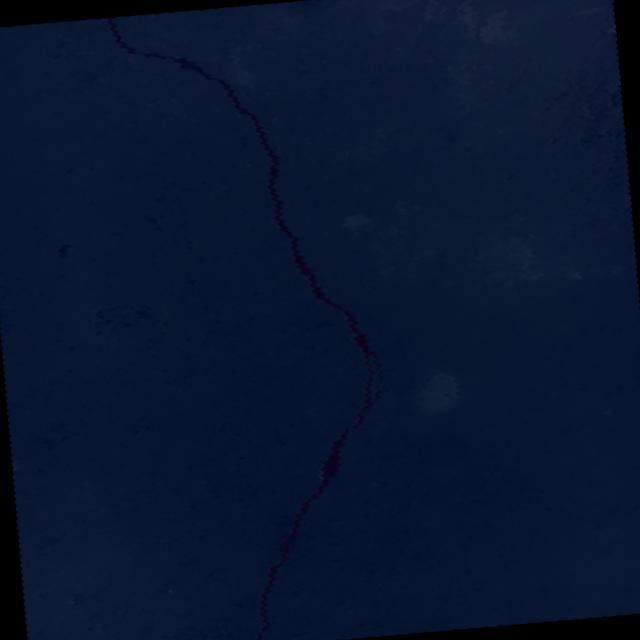crack: (101, 0, 408, 640), (222, 615, 235, 640)
